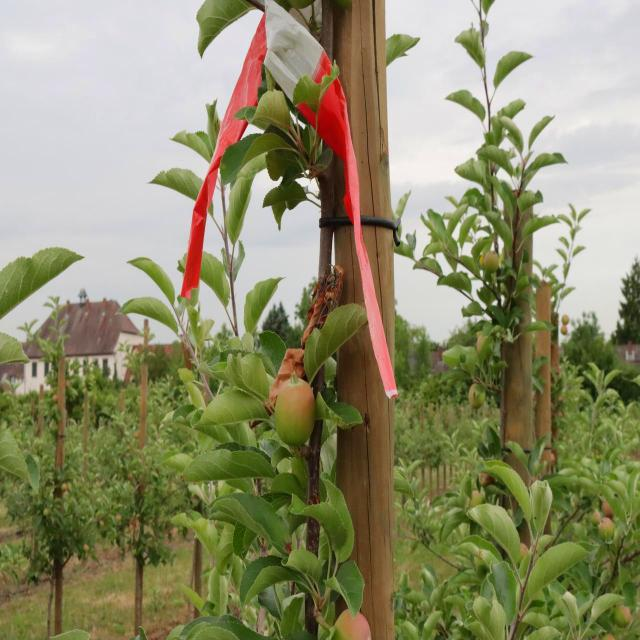-FireBlight-: (309, 268, 343, 319)
